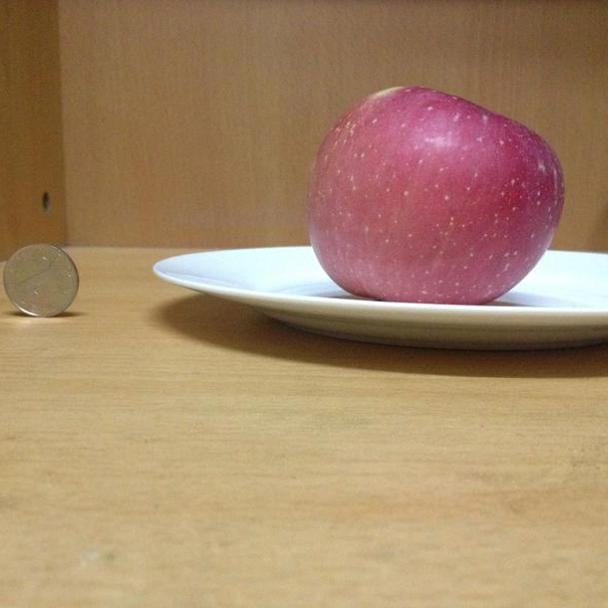apple: (308, 86, 565, 303)
